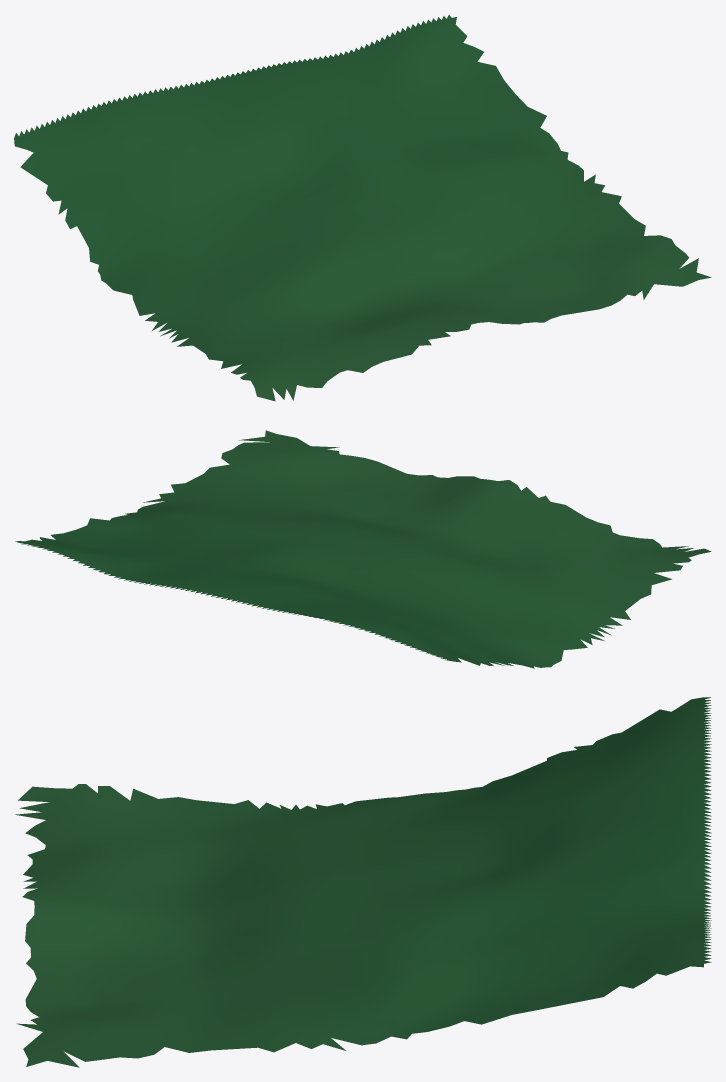
File: payo_land_x2_y5.glb
3 views of the same model, one above another, from view 1: azimuth 30°, elevation 25°; view 2: azimuth 150°, elevation 25°; view 3: azimuth 270°, elevation 25° (orthographic). The views are drawn at different scales.
Visible parts, largest first — view 1: payo_land_x2_y5; view 2: payo_land_x2_y5; view 3: payo_land_x2_y5.
Part boxes in pixels (x1=…): payo_land_x2_y5: x1=14, y1=15, x2=711, y2=401; payo_land_x2_y5: x1=15, y1=430, x2=711, y2=668; payo_land_x2_y5: x1=15, y1=697, x2=711, y2=1067.
Bounding box in the file's own units: 268 × 55.31 × 264.
